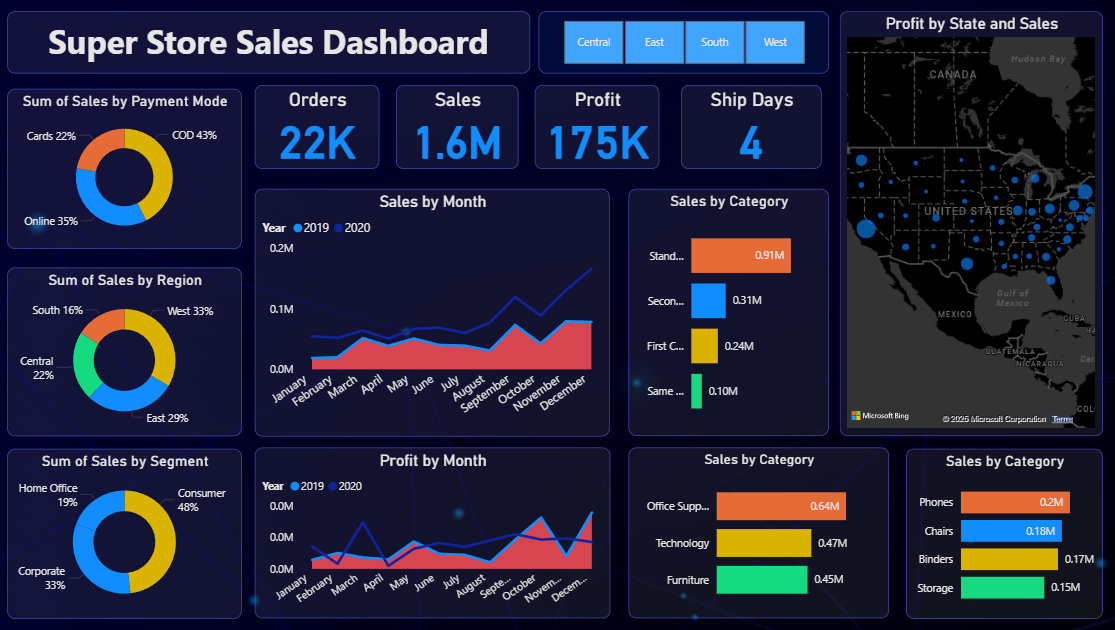

The page's visual inventory and layout, read from the dashboard file:
{"tool":"powerbi","page":{"name":"Page 1","canvas":[1280,720],"ordinal":0},"visuals":[{"type":"barChart","title":"Sales by Category","fields":{"Category":["SuperStore_Sales_Dataset.Category"],"Y":["Sum(SuperStore_Sales_Dataset.Sales)"]},"box":[723.2,511.8,297.8,194.9],"z":0},{"type":"barChart","title":"Sales by Category","fields":{"Y":["Sum(SuperStore_Sales_Dataset.Sales)"],"Category":["SuperStore_Sales_Dataset.Sub-Category"]},"box":[1040.3,512.5,225,194.4],"z":1000},{"type":"barChart","title":"Sales by Category","fields":{"Y":["Sum(SuperStore_Sales_Dataset.Sales)"],"Category":["SuperStore_Sales_Dataset.Ship Mode"]},"box":[723.2,215.4,229.2,282.7],"z":2000},{"type":"donutChart","fields":{"Y":["Sum(SuperStore_Sales_Dataset.Sales)"],"Category":["SuperStore_Sales_Dataset.Payment Mode"]},"box":[12.5,101.4,268.1,183.3],"z":3000},{"type":"donutChart","fields":{"Y":["Sum(SuperStore_Sales_Dataset.Sales)"],"Category":["SuperStore_Sales_Dataset.Region"]},"box":[12.5,305.6,268.1,193.1],"z":4000},{"type":"donutChart","fields":{"Y":["Sum(SuperStore_Sales_Dataset.Sales)"],"Category":["SuperStore_Sales_Dataset.Segment"]},"box":[12.5,512.5,268.1,194.4],"z":5000},{"type":"textbox","box":[12.5,12.5,597.2,70.8],"z":6000},{"type":"card","title":"Orders","fields":{"Values":["Sum(SuperStore_Sales_Dataset.Quantity)"]},"box":[296.4,97.4,142.7,96.1],"z":7000},{"type":"card","title":"Sales","fields":{"Values":["Sum(SuperStore_Sales_Dataset.Sales)"]},"box":[456.9,97.4,140,96.1],"z":8000},{"type":"card","title":"Profit","fields":{"Values":["Sum(SuperStore_Sales_Dataset.Profit)"]},"box":[616.1,97.4,142.7,96.1],"z":9000},{"type":"card","title":"Ship Days","fields":{"Values":["Avg(SuperStore_Sales_Dataset.Ship Days)"]},"box":[782.2,97.4,160.5,96.1],"z":10000},{"type":"areaChart","title":"Sales by Month","fields":{"Y":["Sum(SuperStore_Sales_Dataset.Sales)"],"Category":["SuperStore_Sales_Dataset.Order Date.Variation.Date Hierarchy.Month"],"Series":["SuperStore_Sales_Dataset.Order Date.Variation.Date Hierarchy.Year"]},"box":[295.8,215.3,405.6,283.3],"z":11000},{"type":"areaChart","title":"Profit by Month","fields":{"Category":["SuperStore_Sales_Dataset.Order Date.Variation.Date Hierarchy.Month"],"Series":["SuperStore_Sales_Dataset.Order Date.Variation.Date Hierarchy.Year"],"Y":["Sum(SuperStore_Sales_Dataset.Profit)"]},"box":[296.4,511.8,406.2,194.9],"z":12000},{"type":"map","title":"Profit by State and Sales","fields":{"Category":["SuperStore_Sales_Dataset.State"],"Size":["Sum(SuperStore_Sales_Dataset.Sales)"]},"box":[964.7,12.3,300.5,485.8],"z":13000},{"type":"slicer","fields":{"Values":["SuperStore_Sales_Dataset.Region"]},"box":[620.2,12.3,332.1,71.4],"z":14000}]}

Visuals, with their boxes in screenshot pixels (x1, y1, x2, y2), scaled from the page's 1280x720 canvas onto the 1115x630 screenshot:
"Sales by Category" barChart: <region>630, 448, 889, 618</region>
"Sales by Category" barChart: <region>906, 448, 1102, 619</region>
"Sales by Category" barChart: <region>630, 188, 830, 436</region>
donutChart - Sum(SuperStore_Sales_Dataset.Sales) x SuperStore_Sales_Dataset.Payment Mode: <region>11, 89, 244, 249</region>
donutChart - Sum(SuperStore_Sales_Dataset.Sales) x SuperStore_Sales_Dataset.Region: <region>11, 267, 244, 436</region>
donutChart - Sum(SuperStore_Sales_Dataset.Sales) x SuperStore_Sales_Dataset.Segment: <region>11, 448, 244, 619</region>
textbox: <region>11, 11, 531, 73</region>
"Orders" card: <region>258, 85, 382, 169</region>
"Sales" card: <region>398, 85, 520, 169</region>
"Profit" card: <region>537, 85, 661, 169</region>
"Ship Days" card: <region>681, 85, 821, 169</region>
"Sales by Month" areaChart: <region>258, 188, 611, 436</region>
"Profit by Month" areaChart: <region>258, 448, 612, 618</region>
"Profit by State and Sales" map: <region>840, 11, 1102, 436</region>
slicer - SuperStore_Sales_Dataset.Region: <region>540, 11, 830, 73</region>
